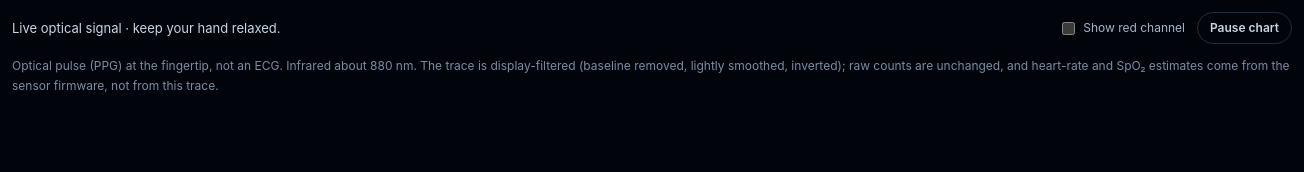
Test: PpgChart › can be paused without losing samples, and resumes with the newest data
Later steps or results of the test are not shown.
Click the button "Pause chart" at [1244, 28], box [1197, 12, 1292, 44]
Wait 200 ms
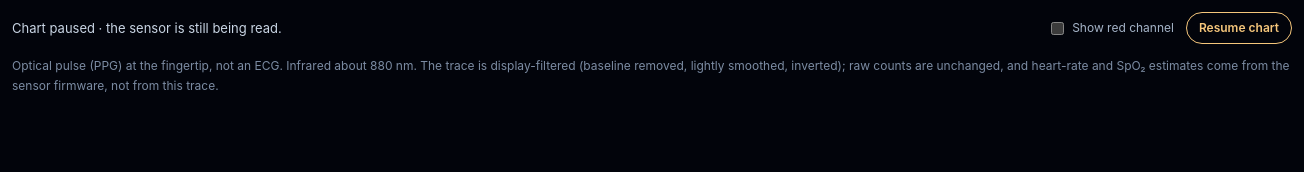
Result: the message shows "Chart paused" at [12, 20, 282, 36]
